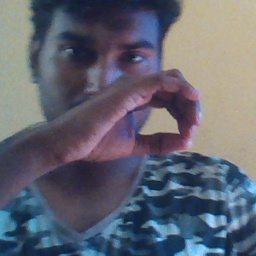O: (46, 59, 206, 163)
